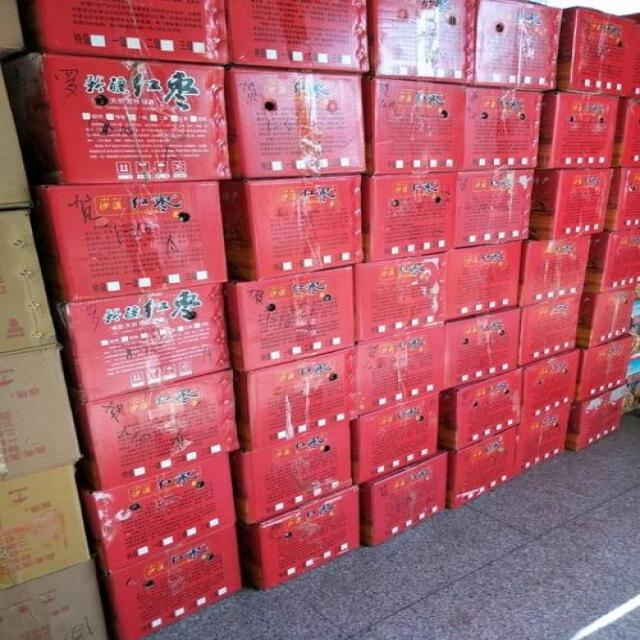box: (3, 52, 232, 184), (29, 180, 228, 302), (49, 282, 232, 402), (70, 368, 242, 493), (78, 453, 237, 573), (102, 522, 243, 640), (225, 67, 366, 179), (220, 174, 365, 279), (223, 266, 356, 372), (233, 346, 358, 453), (237, 483, 361, 589), (33, 0, 230, 65), (228, 422, 353, 524), (0, 464, 92, 590), (0, 344, 83, 483), (228, 0, 371, 73), (364, 78, 466, 175), (365, 0, 477, 85), (361, 447, 451, 547), (0, 559, 108, 640), (353, 251, 447, 344), (362, 172, 457, 262), (0, 208, 58, 354), (351, 391, 440, 486), (356, 325, 444, 416), (476, 0, 562, 92), (557, 6, 640, 98), (440, 367, 521, 450), (443, 307, 520, 391), (539, 91, 621, 168), (465, 87, 541, 170), (456, 170, 535, 249), (447, 242, 522, 321), (530, 169, 612, 241), (447, 428, 518, 510), (518, 236, 593, 307), (0, 62, 33, 210), (520, 348, 581, 425), (520, 296, 584, 367), (577, 332, 635, 403), (567, 386, 627, 451), (518, 406, 572, 475), (585, 228, 640, 294), (579, 287, 637, 348), (607, 167, 640, 232), (614, 97, 640, 167), (0, 1, 23, 59)
